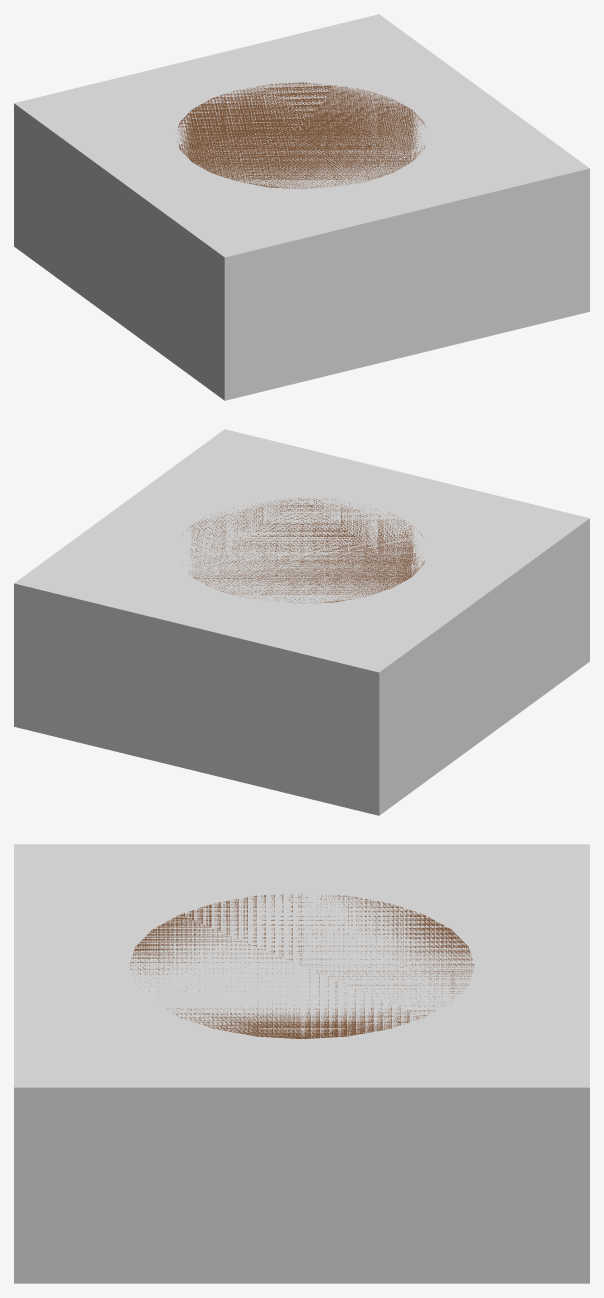
The model's file is ceiling-flush_boutique.glb.
3 renders of one model, top to bottom at view 1: azimuth 30°, elevation 25°; view 2: azimuth 150°, elevation 25°; view 3: azimuth 270°, elevation 25°, orthographic. The views are drawn at different scales.
Visible parts, largest first — view 1: COL_ceiling-flush, MESH_CeilingCanopy; view 2: COL_ceiling-flush, MESH_CeilingCanopy; view 3: COL_ceiling-flush, MESH_CeilingCanopy.
Boxes of the visible parts, x1,y1,x2,y2 form: COL_ceiling-flush: [14, 14, 589, 400]; MESH_CeilingCanopy: [177, 82, 425, 188]; COL_ceiling-flush: [14, 429, 589, 815]; MESH_CeilingCanopy: [182, 498, 424, 604]; COL_ceiling-flush: [14, 844, 589, 1283]; MESH_CeilingCanopy: [130, 893, 474, 1038].
Bounding box in the file's own units: 0.48 × 0.18 × 0.48.
